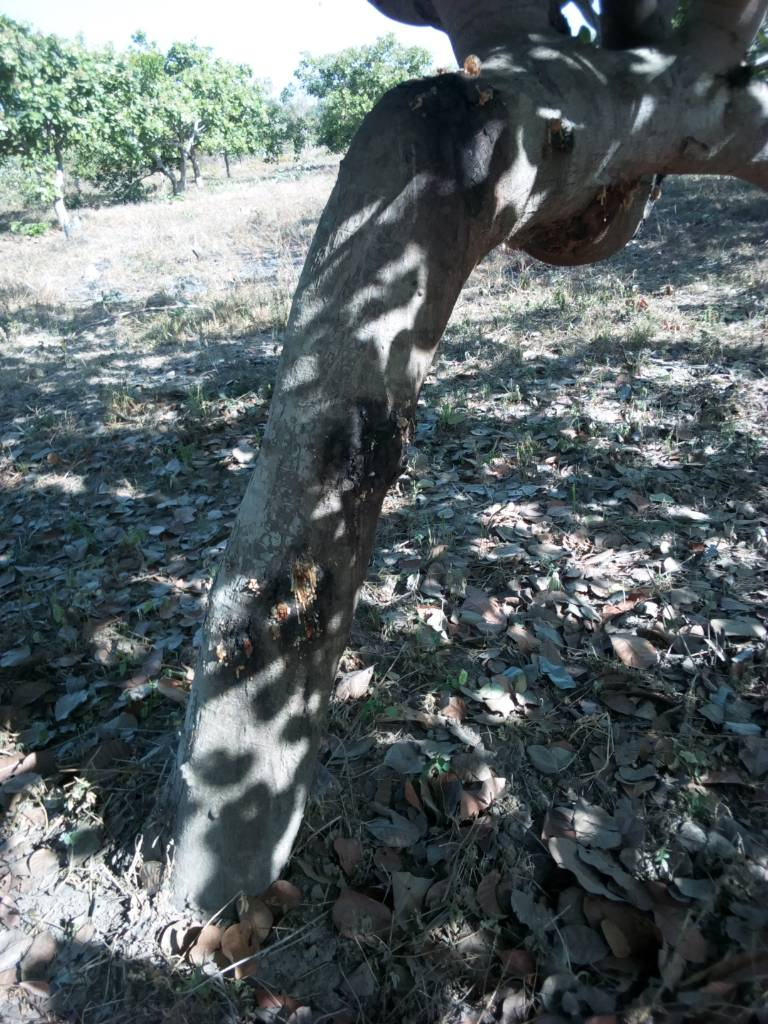Mecocorynus longiceps: (254, 522, 338, 685)
